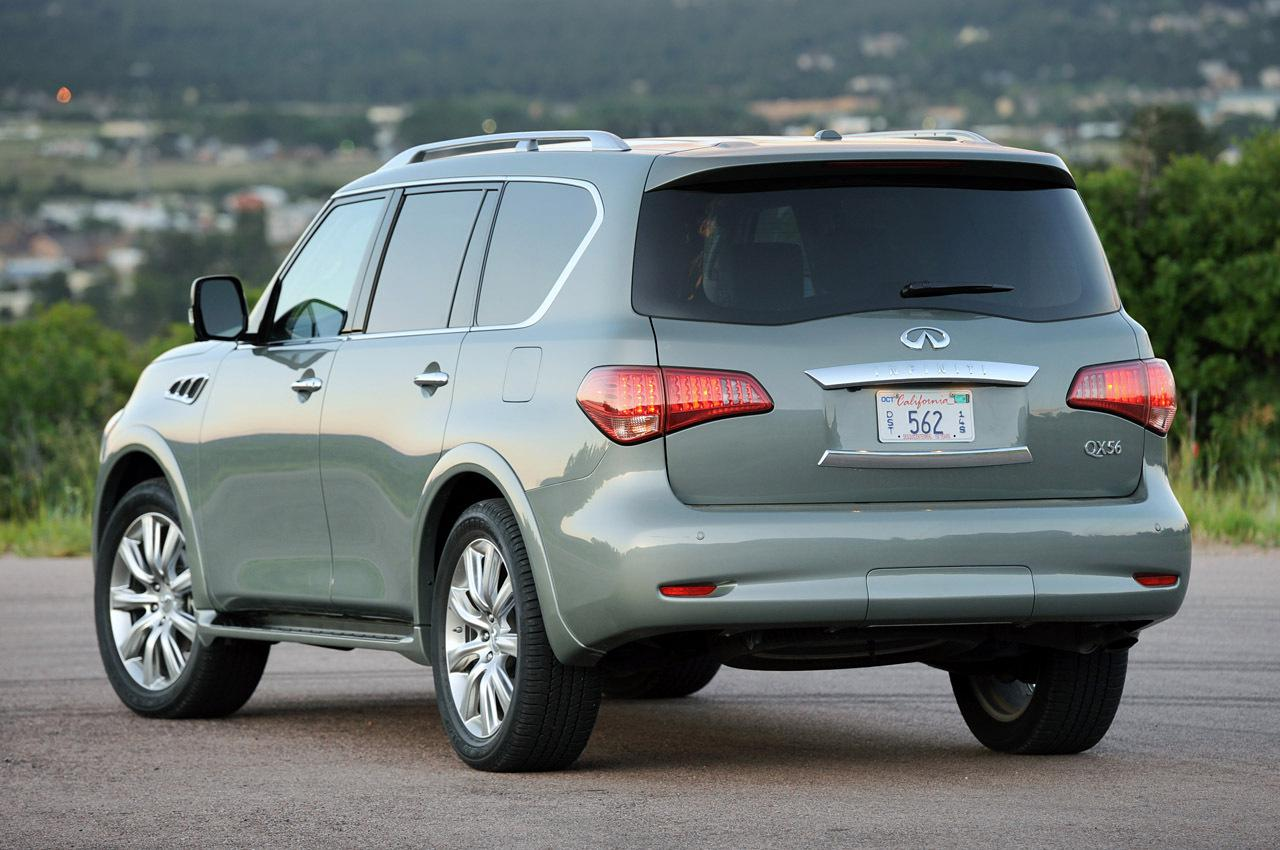Car: (56, 85, 1215, 805)
